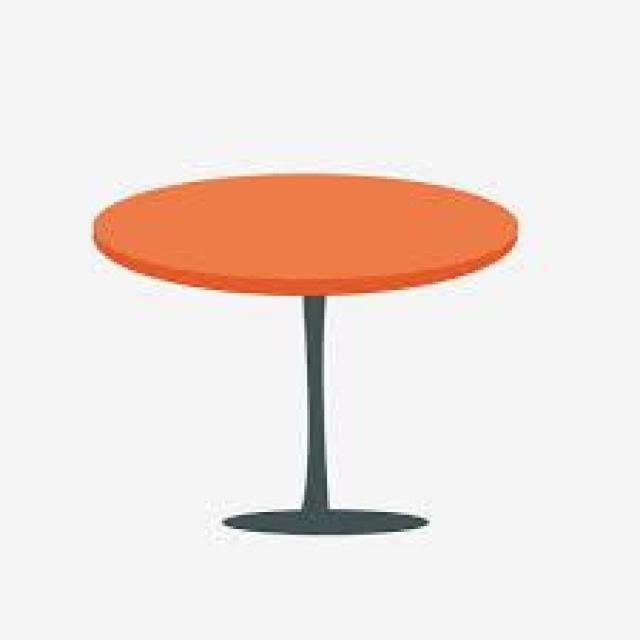table: (44, 101, 559, 570)
